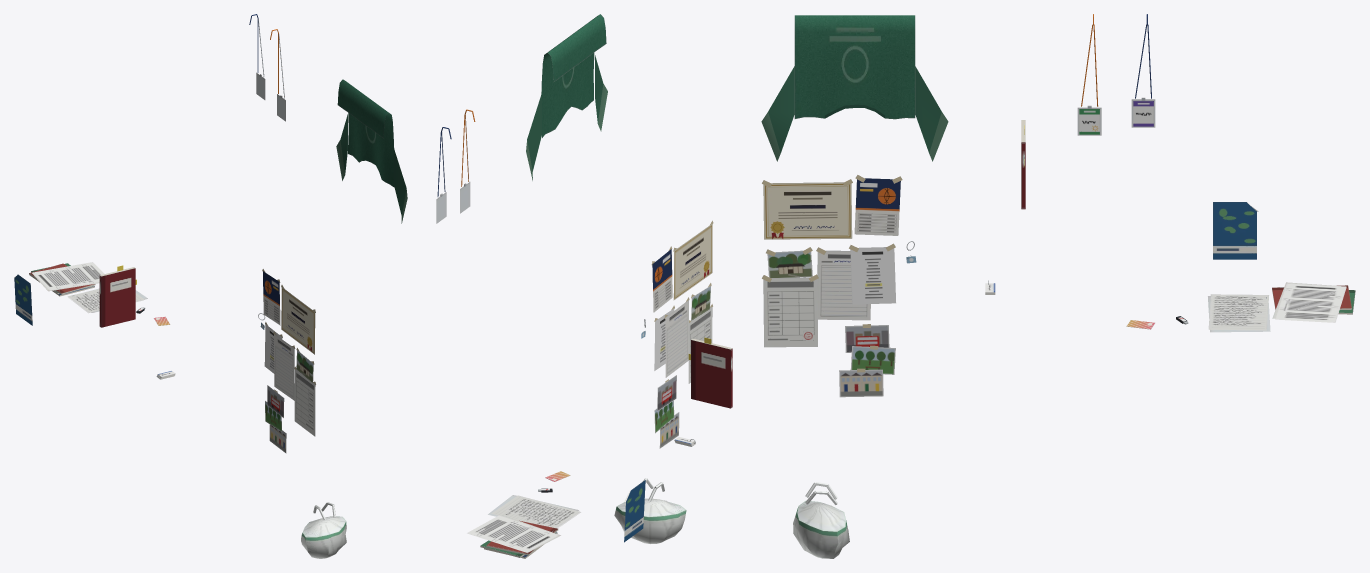
File: dorm_y3_items.glb
3 views of the same model, side by side, from view 1: azimuth 30°, elevation 25°; view 2: azimuth 150°, elevation 25°; view 3: azimuth 270°, elevation 25° (orthographic). The views are drawn at different scales.
Parts seen in each view (by area): view 1: y3_vac_C09, y3_zhe_notes, y3_cold, y3_vac_C10, y3_sis_plan, y3_form, y3_fafu_form, y3_postcards, y3_game_y2, y3_expo, y3_field; view 2: y3_vac_C09, y3_zhe_notes, y3_cold, y3_vac_C10, y3_sis_plan, y3_field, y3_fafu_form, y3_postcards, y3_game_y2, y3_expo, y3_form, y3_credits (+4 smaller); view 3: y3_vac_C09, y3_vac_C10, y3_form, y3_postcards, y3_cold, y3_fafu_form, y3_credits, y3_game_y2, y3_expo, y3_sis_plan, y3_field, y3_vac_C12 (+2 smaller).
Part boxes in pixels (box(x1,y1,x2,y2)): y3_vac_C09: box(336, 79, 407, 223); y3_zhe_notes: box(99, 265, 136, 327); y3_cold: box(301, 502, 346, 558); y3_vac_C10: box(281, 285, 315, 354); y3_sis_plan: box(32, 262, 104, 291); y3_form: box(294, 366, 315, 436); y3_fafu_form: box(273, 331, 295, 400); y3_postcards: box(265, 385, 286, 453); y3_game_y2: box(262, 269, 280, 325); y3_expo: box(14, 274, 32, 325); y3_field: box(68, 289, 144, 312); y3_vac_C09: box(526, 14, 607, 180); y3_zhe_notes: box(688, 337, 732, 408); y3_cold: box(614, 478, 686, 543); y3_vac_C10: box(673, 220, 713, 300); y3_sis_plan: box(467, 515, 560, 552); y3_field: box(491, 495, 579, 528); y3_fafu_form: box(664, 297, 689, 377); y3_postcards: box(654, 375, 679, 448); y3_game_y2: box(651, 246, 672, 312); y3_expo: box(624, 480, 645, 542); y3_form: box(688, 304, 712, 383); y3_credits: box(654, 305, 674, 370); y3_vac_C09: box(761, 15, 948, 161); y3_vac_C10: box(762, 179, 852, 239); y3_form: box(762, 274, 818, 347); y3_postcards: box(839, 324, 895, 397); y3_cold: box(793, 482, 849, 558); y3_fafu_form: box(816, 247, 870, 320); y3_credits: box(849, 243, 895, 304); y3_game_y2: box(854, 175, 902, 235); y3_expo: box(1213, 202, 1258, 259); y3_sis_plan: box(1272, 282, 1346, 322); y3_field: box(1208, 294, 1269, 330); y3_vac_C12: box(766, 247, 812, 277).
Size of the model in its own units: 1.06 by 2.13 by 2.
Materials: 2 (2 with a texture image).
